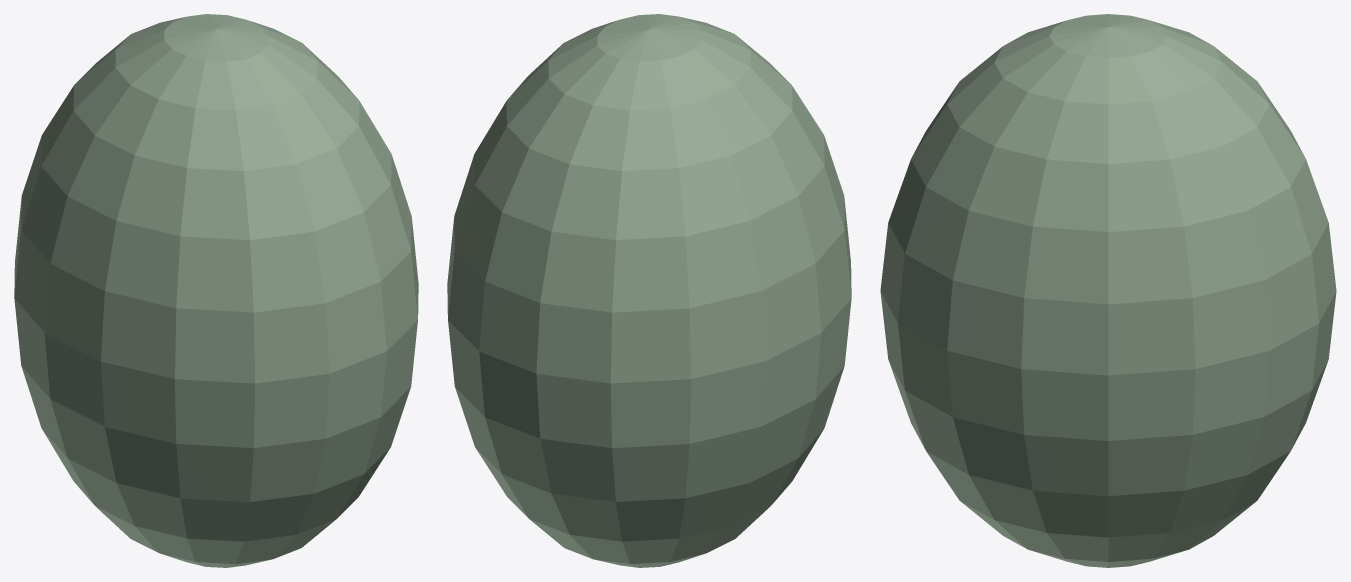
The model's file is head_occluder.glb.
3 renders of one model, left to right at view 1: azimuth 30°, elevation 25°; view 2: azimuth 150°, elevation 25°; view 3: azimuth 270°, elevation 25°, orthographic.
Parts seen in each view (by area): view 1: SH_head_occluder; view 2: SH_head_occluder; view 3: SH_head_occluder.
Part boxes in pixels (x1,y1,x2,y2): SH_head_occluder: (14,14,418,567); SH_head_occluder: (447,14,851,567); SH_head_occluder: (880,14,1336,567).
Bounding box in the file's own units: 0.158 × 0.23 × 0.18.
